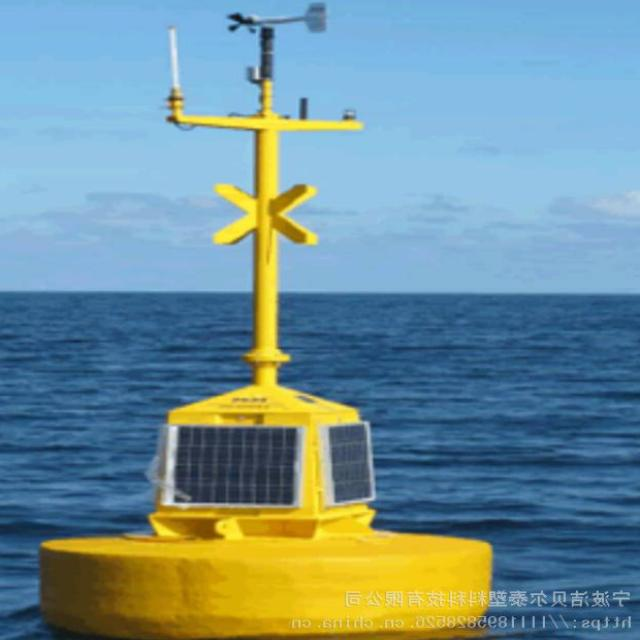buoy: (36, 0, 507, 640)
